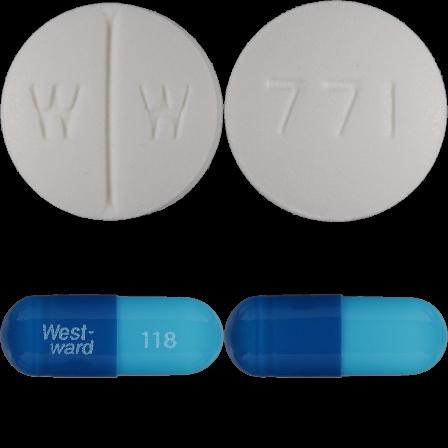0143-1771: (0, 0, 224, 224)
